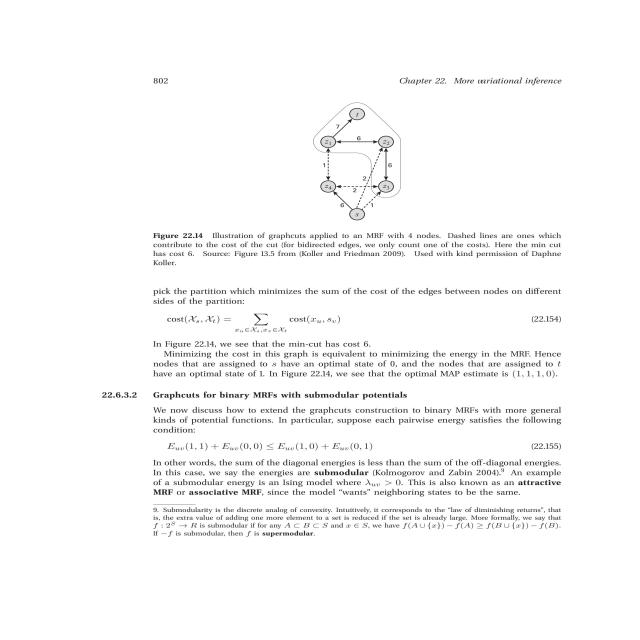diagram: (111, 93, 584, 276)
